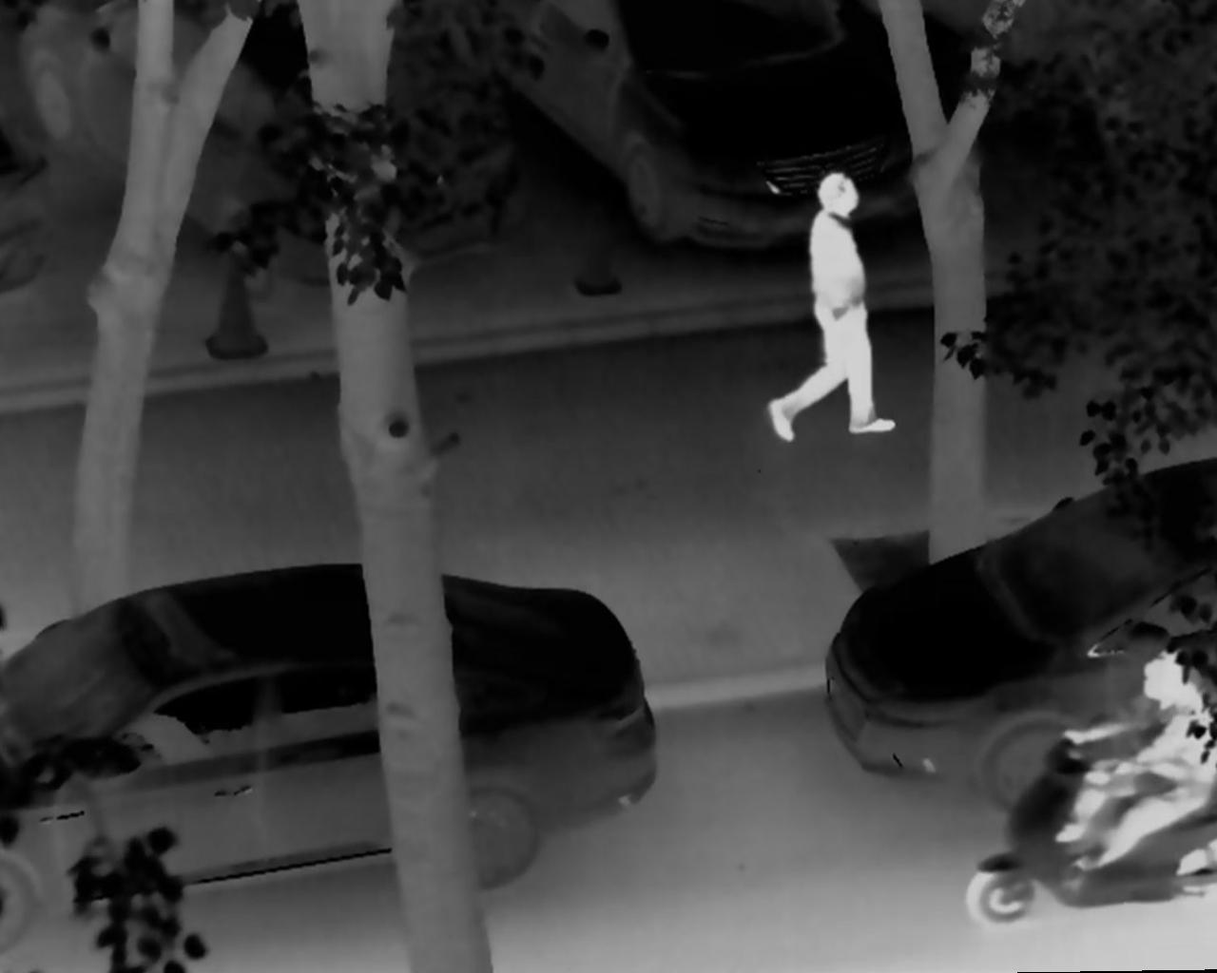person: (1050, 634, 1216, 885), (760, 168, 901, 447)
